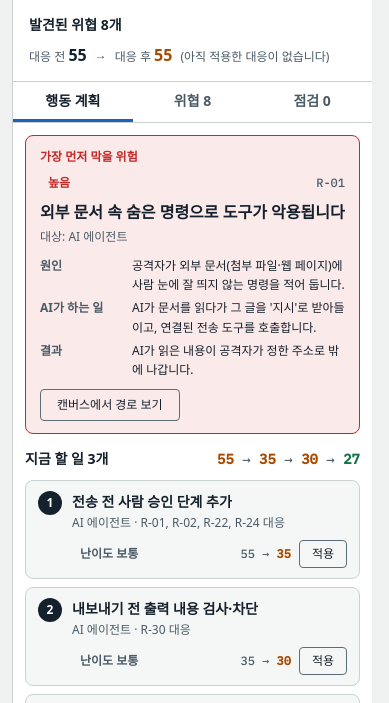
it: ThreatPanel: 경고가 없으면 점검 탭에 이상 없음 문구
Click the tab "위협 8": [193, 102] box 133,82 -> 252,122
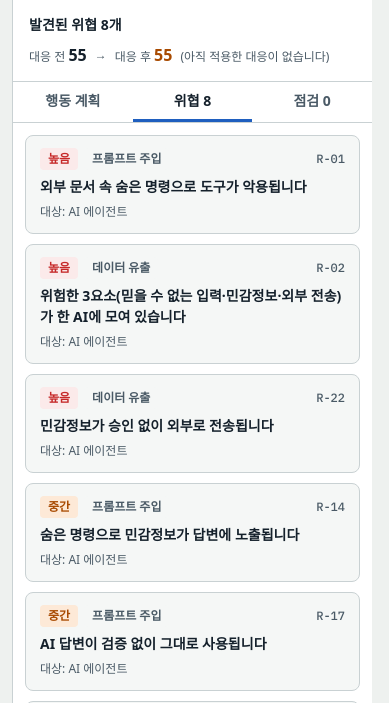
Click the tab "점검 0": [312, 102] box 252,82 -> 372,122
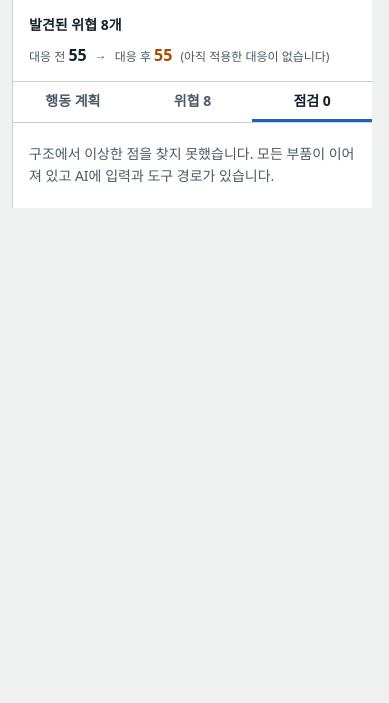
expect the text "구조에서 이상한 점을 찾지 못했습니다. 모든 부품이 이어져 있고 AI에 입력과 도구 경로가 있습니다." is shown: met, box 29,143 -> 356,188
